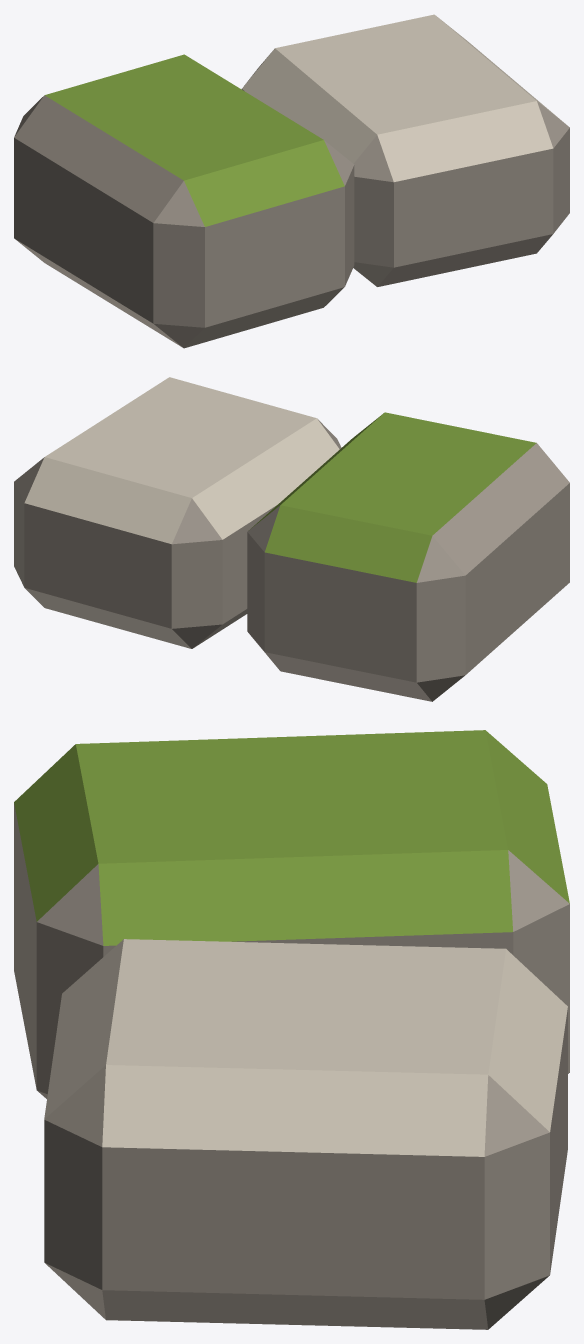
The model's file is Boulder_Slab.fbx.
3 renders of one model, top to bottom at view 1: azimuth 30°, elevation 25°; view 2: azimuth 150°, elevation 25°; view 3: azimuth 270°, elevation 25°, orthographic. The views are drawn at different scales.
Parts seen in each view (by area): view 1: Boulder_Slab; view 2: Boulder_Slab; view 3: Boulder_Slab.
Part boxes in pixels (x1=…): Boulder_Slab: x1=14, y1=14, x2=569, y2=348; Boulder_Slab: x1=14, y1=377, x2=569, y2=701; Boulder_Slab: x1=14, y1=730, x2=569, y2=1329.
Size of the model in its own units: 3.12 by 1.1 by 1.97.
